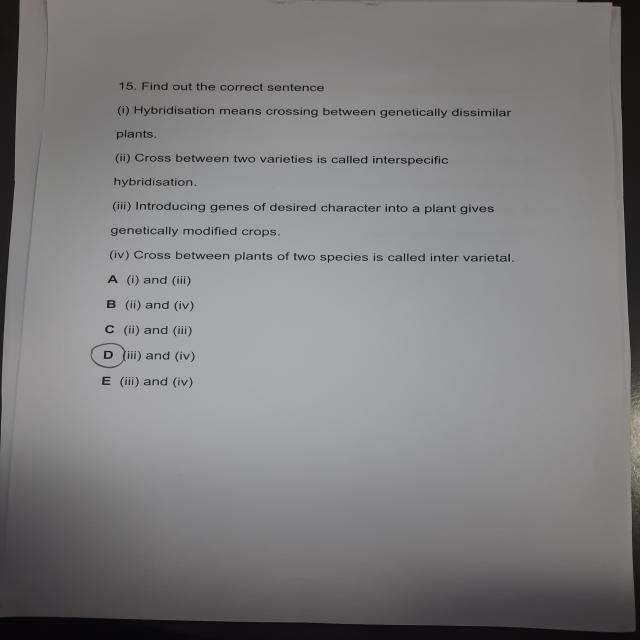D: (89, 343, 131, 371)
